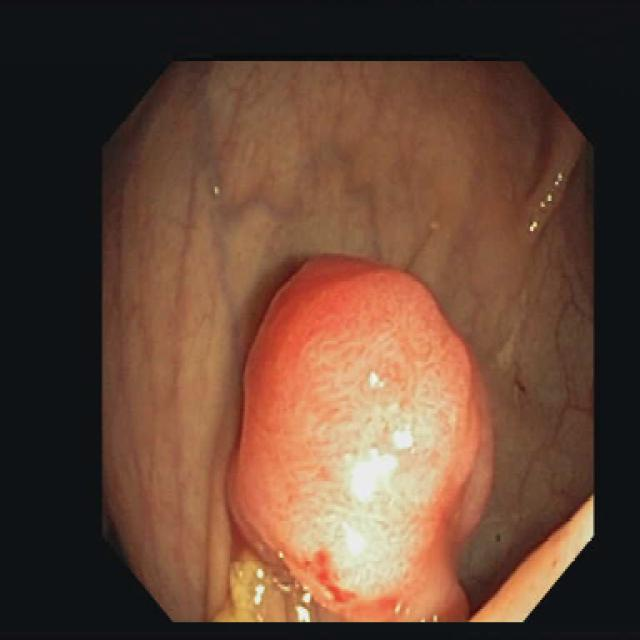tumor: (228, 260, 490, 620)
